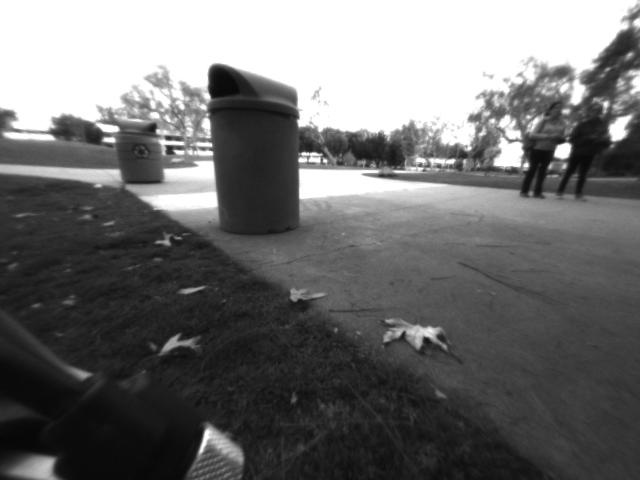trashcan: (201, 59, 309, 240)
